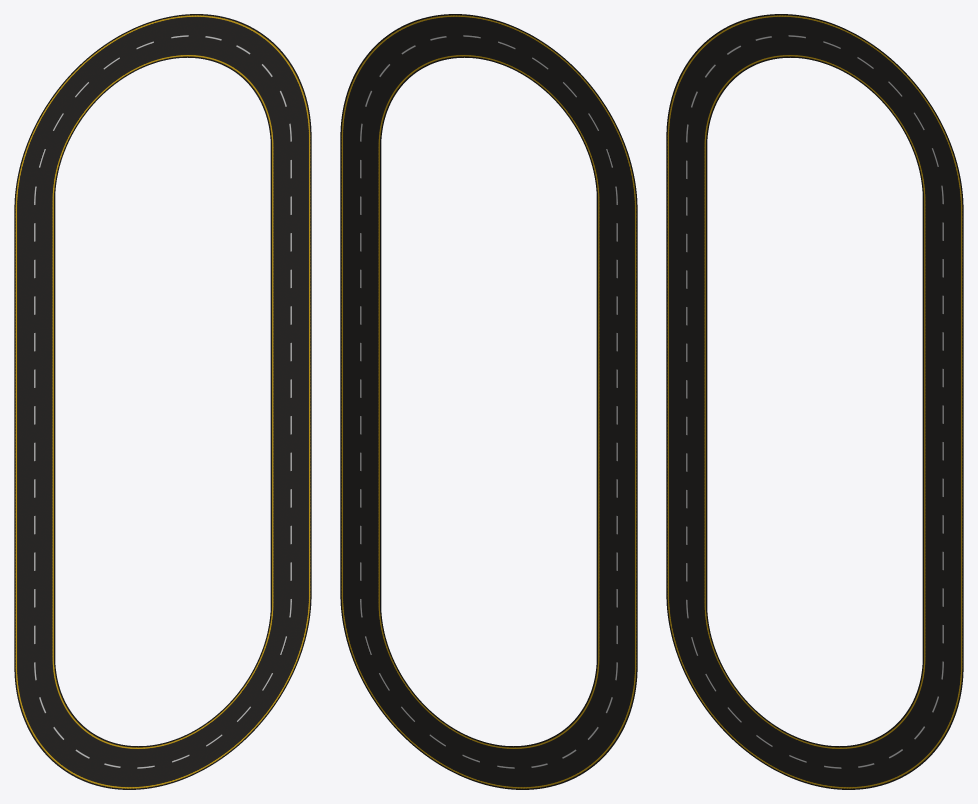
The model's file is road_track.obj.
3 views of the same model, side by side, from view 1: azimuth 30°, elevation 25°; view 2: azimuth 150°, elevation 25°; view 3: azimuth 330°, elevation 25° (orthographic).
Visible parts, largest first — view 1: road_track; view 2: road_track; view 3: road_track.
Boxes of the visible parts, left/top/right/bottom form: road_track: left=14, top=14, right=311, bottom=789; road_track: left=340, top=14, right=637, bottom=789; road_track: left=666, top=14, right=963, bottom=789.
Bounding box in the file's own units: 51 × 126 × 0.
Materials: 1 (1 with a texture image).
